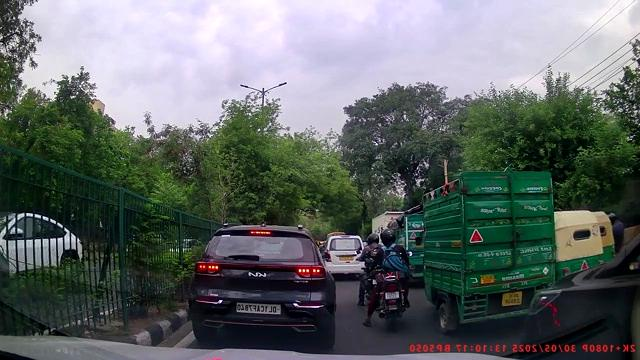motorcycle_with_helmet: (370, 223, 413, 330)
